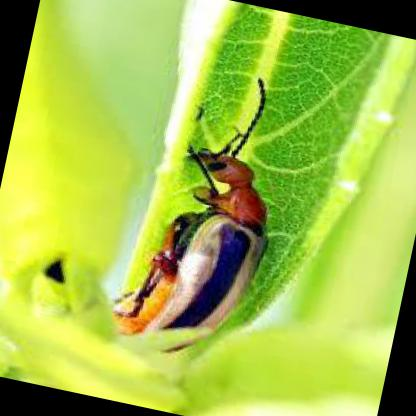blister beetle: (114, 80, 267, 353)
